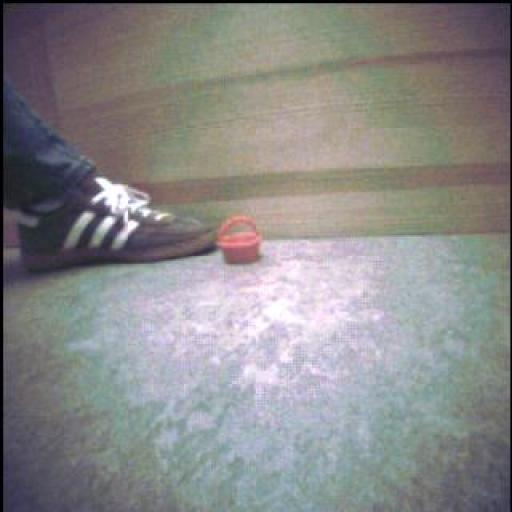Bucket: (219, 217, 264, 265)
